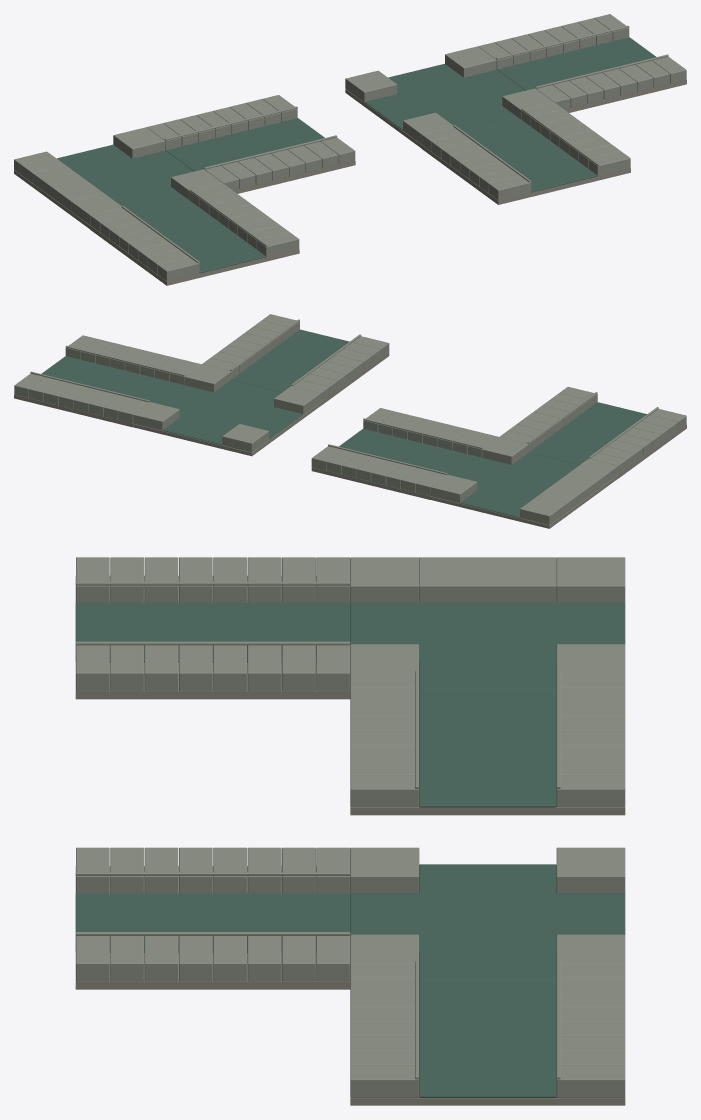
File: undercity-sewers-and-thieves-den-sewer-connector-cases-7e1e438d__27261.glb
3 views of the same model, one above another, from view 1: azimuth 30°, elevation 25°; view 2: azimuth 150°, elevation 25°; view 3: azimuth 270°, elevation 25° (orthographic). The views are drawn at different scales.
Parts seen in each view (by area): view 1: 002-brick-barrel-open-cutaway/2, 005-brick-barrel-open-cutaway/2, 001-brick-barrel-open-cutaway/2, 004-brick-barrel-open-cutaway/2, 003-cross-junction/1, 000-t-junction/2, 000-t-junction/1, 001-brick-barrel-open-cutaway/1, 004-brick-barrel-open-cutaway/1, 003-cross-junction/2, 002-brick-barrel-open-cutaway/1, 005-brick-barrel-open-cutaway/1 (+8 smaller); view 2: 002-brick-barrel-open-cutaway/2, 005-brick-barrel-open-cutaway/2, 003-cross-junction/1, 004-brick-barrel-open-cutaway/2, 001-brick-barrel-open-cutaway/2, 000-t-junction/2, 000-t-junction/1, 003-cross-junction/2, 004-brick-barrel-open-cutaway/1, 001-brick-barrel-open-cutaway/1, 005-brick-barrel-open-cutaway/1, 002-brick-barrel-open-cutaway/1 (+8 smaller); view 3: 001-brick-barrel-open-cutaway/2, 004-brick-barrel-open-cutaway/2, 003-cross-junction/1, 002-brick-barrel-open-cutaway/2, 000-t-junction/1, 005-brick-barrel-open-cutaway/2, 000-t-junction/2, 005-brick-barrel-open-cutaway/1, 002-brick-barrel-open-cutaway/1, 001-brick-barrel-open-cutaway/1, 004-brick-barrel-open-cutaway/1, 003-cross-junction/2 (+8 smaller).
Part boxes in pixels (x1,y1,x2,y2): 002-brick-barrel-open-cutaway/2: [146, 95, 355, 190]; 005-brick-barrel-open-cutaway/2: [478, 14, 686, 109]; 001-brick-barrel-open-cutaway/2: [90, 183, 299, 281]; 004-brick-barrel-open-cutaway/2: [422, 102, 630, 200]; 003-cross-junction/1: [364, 64, 524, 132]; 000-t-junction/2: [14, 127, 222, 225]; 000-t-junction/1: [57, 144, 193, 213]; 001-brick-barrel-open-cutaway/1: [135, 200, 265, 273]; 004-brick-barrel-open-cutaway/1: [466, 119, 597, 192]; 003-cross-junction/2: [345, 46, 553, 144]; 002-brick-barrel-open-cutaway/1: [166, 118, 324, 171]; 005-brick-barrel-open-cutaway/1: [497, 37, 655, 90]; 002-brick-barrel-open-cutaway/2: [311, 408, 498, 495]; 005-brick-barrel-open-cutaway/2: [14, 335, 201, 423]; 003-cross-junction/1: [159, 380, 303, 445]; 004-brick-barrel-open-cutaway/2: [202, 314, 389, 401]; 001-brick-barrel-open-cutaway/2: [500, 386, 686, 474]; 000-t-junction/2: [430, 437, 617, 524]; 000-t-junction/1: [457, 452, 579, 517]; 003-cross-junction/2: [133, 364, 320, 452]; 004-brick-barrel-open-cutaway/1: [232, 329, 349, 392]; 001-brick-barrel-open-cutaway/1: [529, 402, 646, 464]; 005-brick-barrel-open-cutaway/1: [41, 356, 184, 403]; 002-brick-barrel-open-cutaway/1: [339, 428, 481, 476]; 001-brick-barrel-open-cutaway/2: [76, 557, 350, 691]; 004-brick-barrel-open-cutaway/2: [76, 847, 350, 981]; 003-cross-junction/1: [350, 864, 625, 980]; 002-brick-barrel-open-cutaway/2: [350, 673, 625, 807]; 000-t-junction/1: [350, 603, 625, 689]; 005-brick-barrel-open-cutaway/2: [350, 964, 625, 1097]; 000-t-junction/2: [350, 557, 625, 673]; 005-brick-barrel-open-cutaway/1: [419, 980, 556, 1097]; 002-brick-barrel-open-cutaway/1: [419, 690, 556, 807]; 001-brick-barrel-open-cutaway/1: [75, 602, 350, 662]; 004-brick-barrel-open-cutaway/1: [75, 893, 350, 952]; 003-cross-junction/2: [350, 847, 625, 964].
Size of the model in its own units: 18 by 0.465 by 8.
